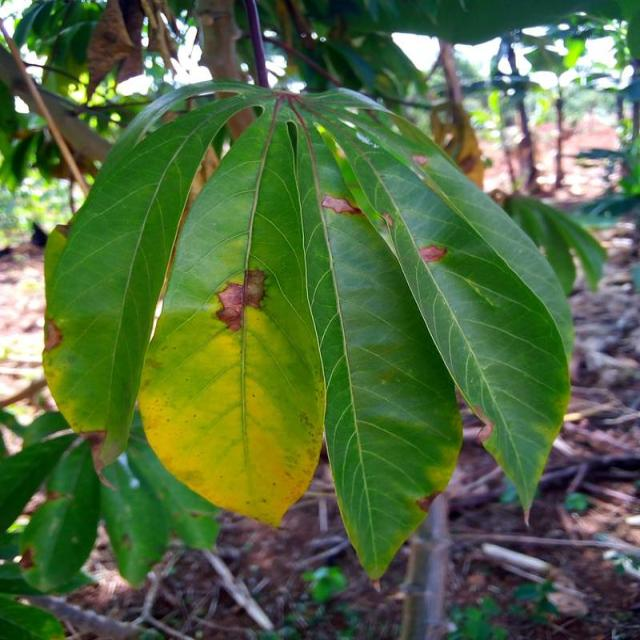cassava leaf: (42, 80, 576, 581), (41, 81, 271, 470), (136, 102, 328, 529), (290, 116, 464, 582)
